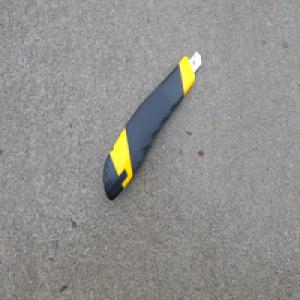Cutter: (101, 47, 202, 201)
